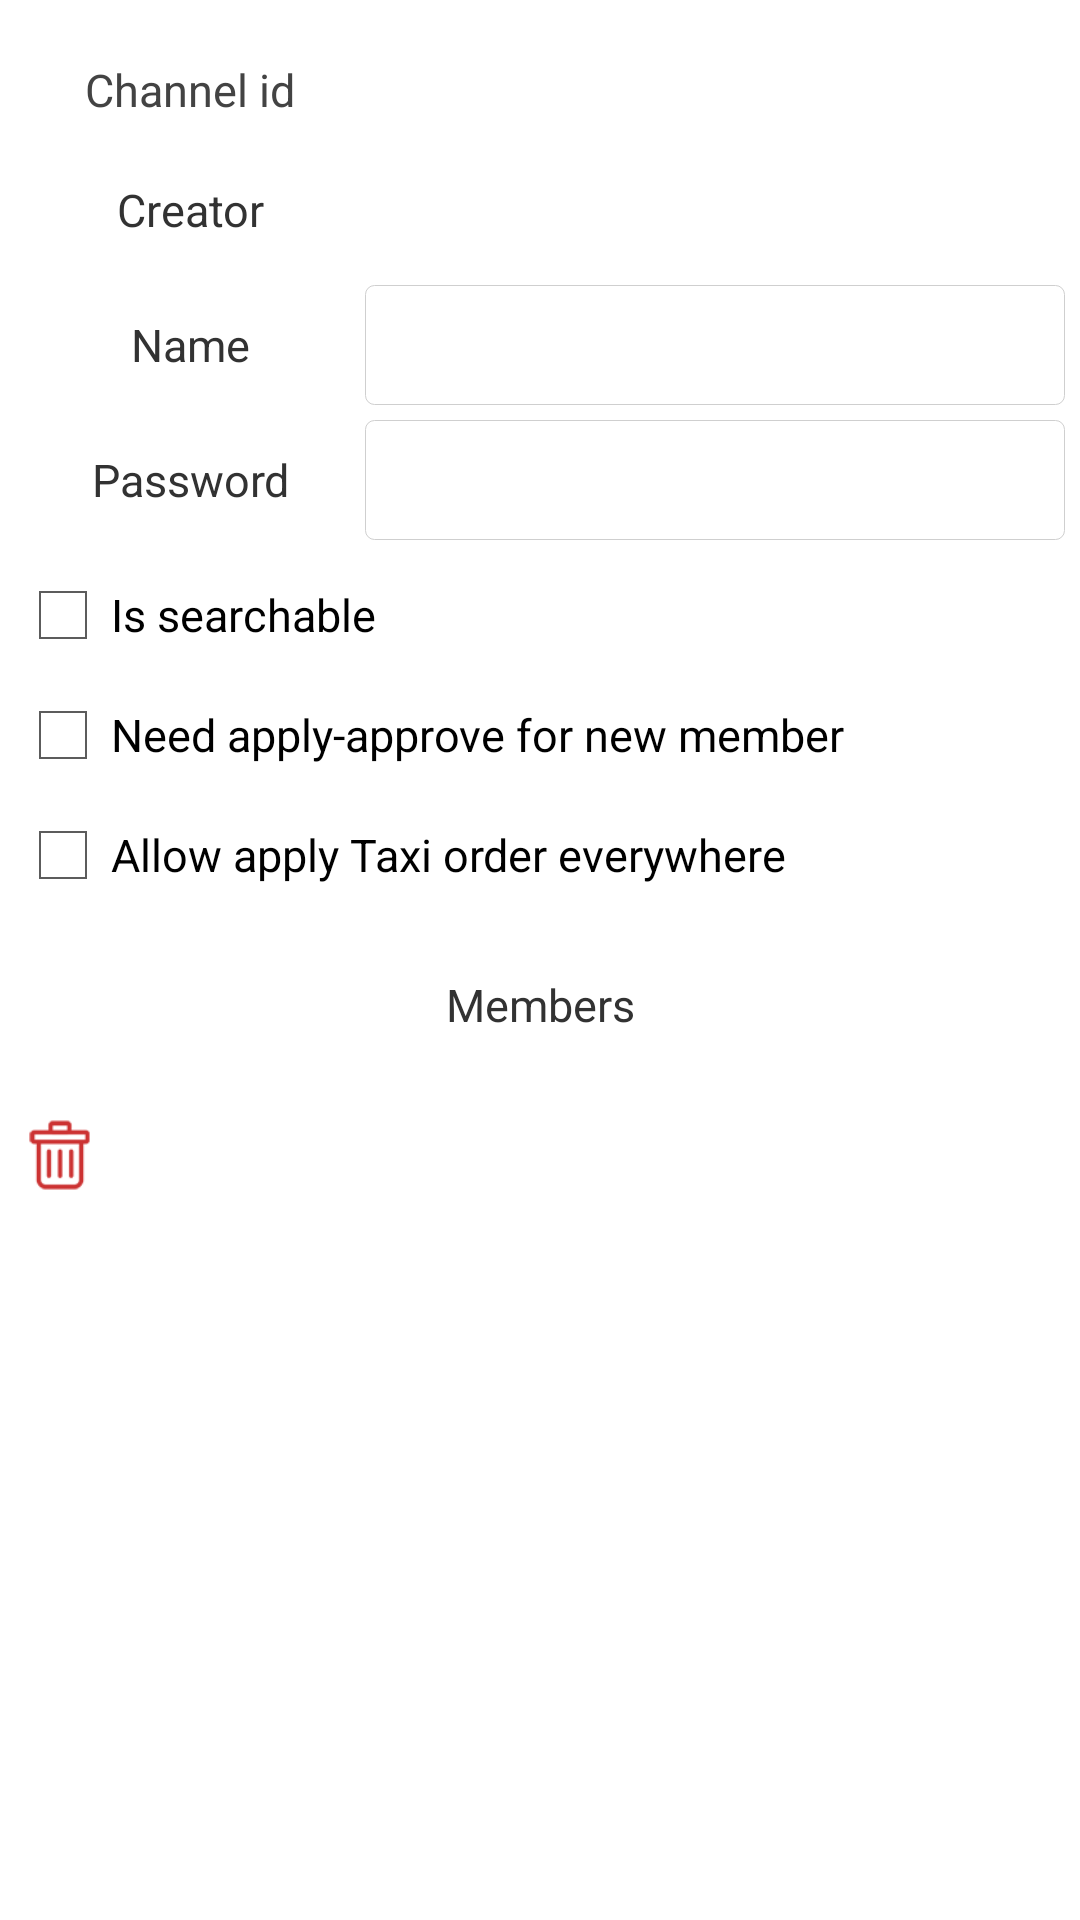

Icons on this 1080 x 1920 Android screen, each with the point to tap as point (x, y):
delete: point (59, 1155)
